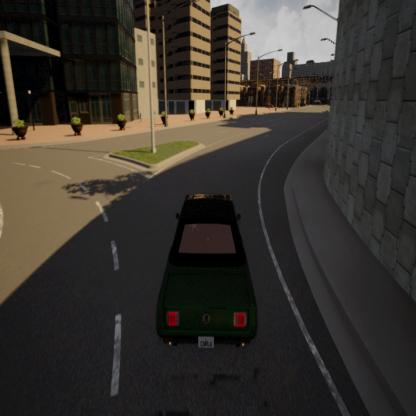Cars: (140, 178, 270, 365)
